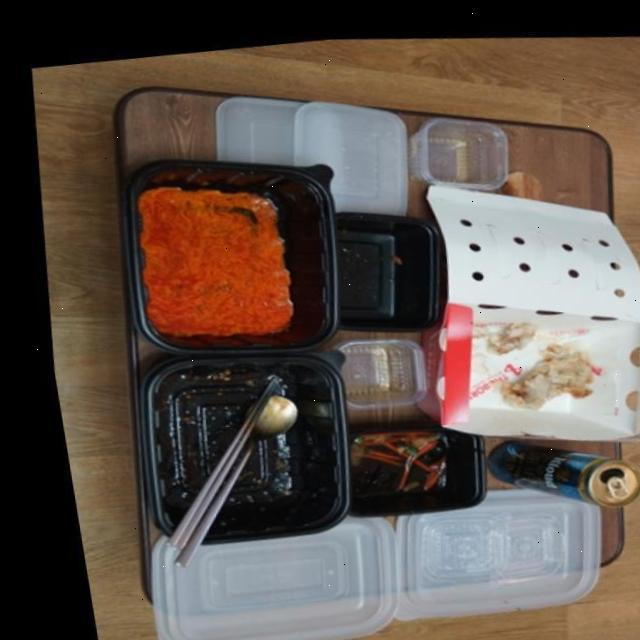disposable: (102, 140, 360, 367), (103, 351, 357, 576)
